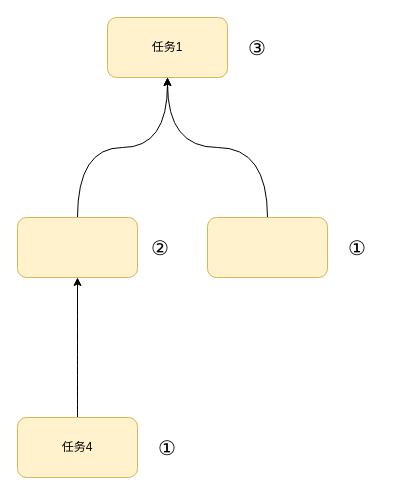
This 395x495 diagram has some shape labels left out. Here are the shapes that lost their labels. From the top down, the centre of each, then its label:
the point at 77,247: 任务2
the point at 267,247: 任务3
